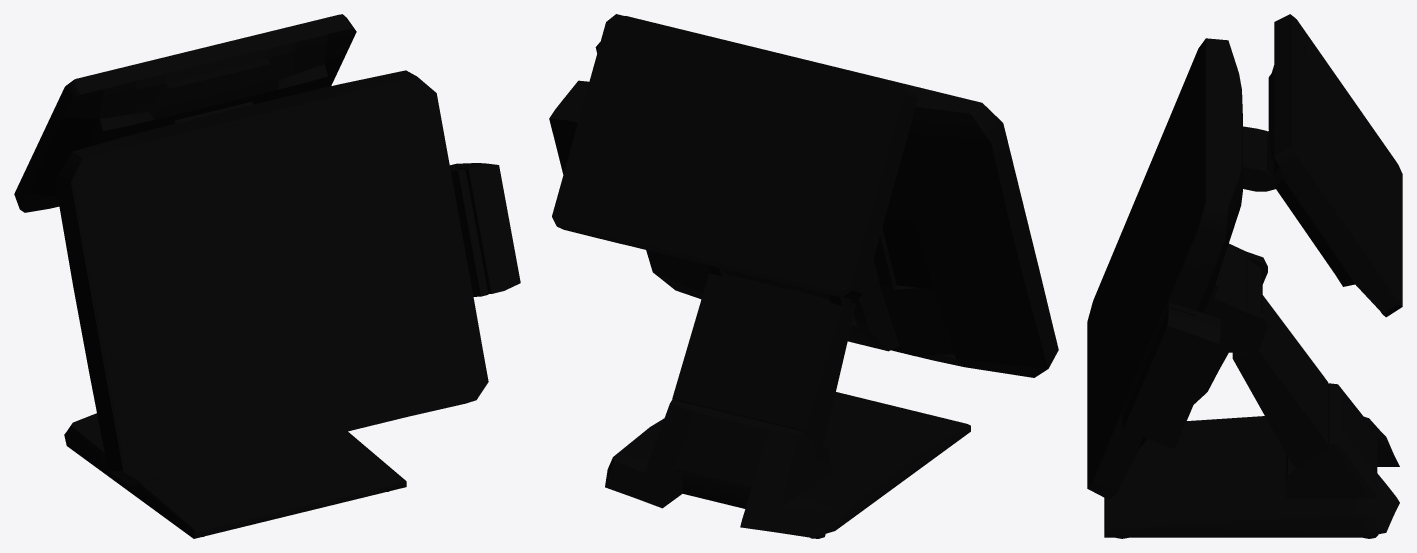
File: UPOS_211_10inch_black.fbx
The picture shows the model from 3 angles, left to right: view 1: azimuth 30°, elevation 25°; view 2: azimuth 150°, elevation 25°; view 3: azimuth 270°, elevation 25°; orthographic projection. The views are drawn at different scales.
Parts seen in each view (by area): view 1: A, I, C, D, B, E; view 2: H, B, D, I, F, G, E; view 3: D, A, I, B, H, F, E, G, C.
Part boxes in pixels (x1,y1,x2,y2): A: (87,96,472,463); I: (14,14,356,212); C: (72,80,486,479); D: (64,413,406,538); B: (55,70,488,485); E: (450,163,520,296); H: (581,44,878,264); B: (595,16,1058,377); D: (605,392,970,538); I: (552,14,917,300); F: (672,269,856,443); G: (707,228,954,356); E: (549,80,589,174); D: (1104,383,1399,538); A: (1093,56,1198,471); I: (1242,14,1402,317); B: (1087,38,1242,499); H: (1305,41,1388,276); F: (1232,258,1329,467); E: (1122,303,1220,448); G: (1140,243,1267,446); C: (1087,42,1204,485).
Size of the model in its own units: 39.2 by 36.26 by 25.34.
1 material, 1 textured.
